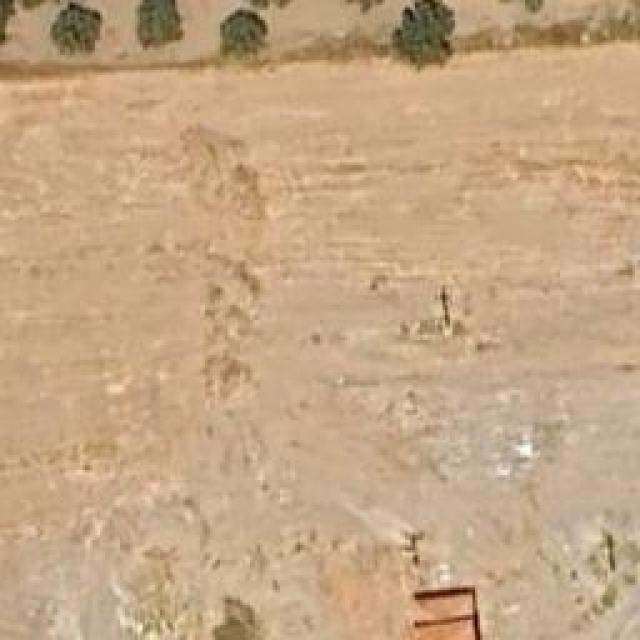Tree: (392, 0, 455, 62), (50, 0, 103, 58), (220, 8, 268, 58), (140, 0, 183, 48)
